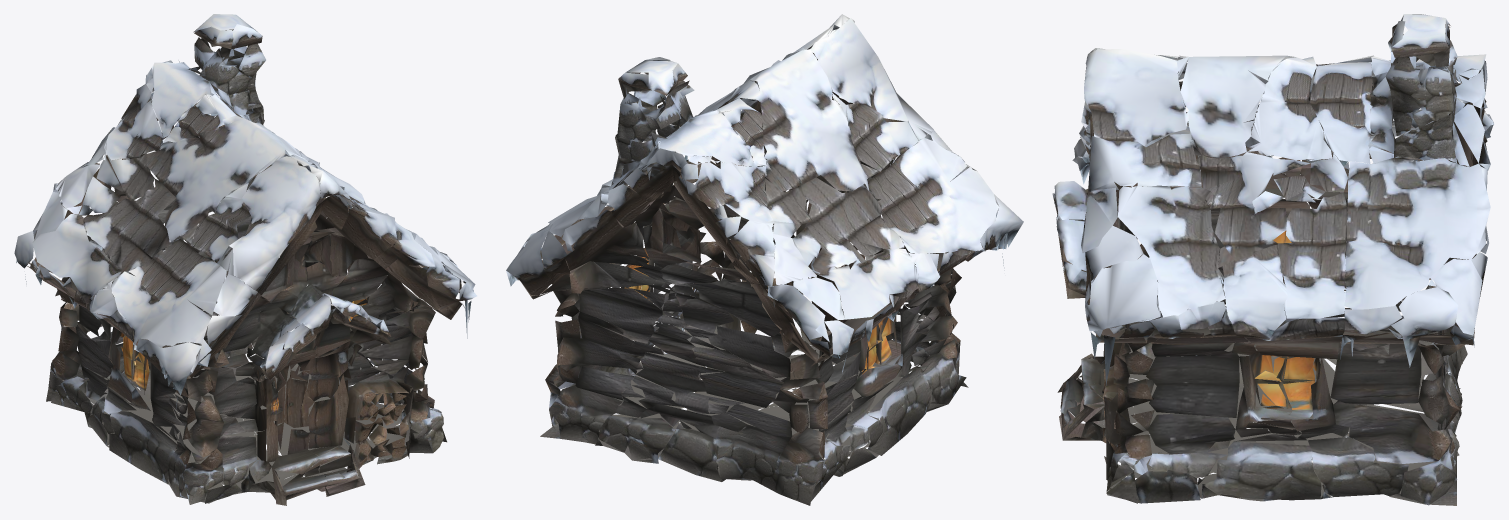
The model's file is MountainHut.fbx.
3 renders of one model, left to right at view 1: azimuth 30°, elevation 25°; view 2: azimuth 150°, elevation 25°; view 3: azimuth 270°, elevation 25°, orthographic. The views are drawn at different scales.
Parts seen in each view (by area): view 1: MountainHut_Body; view 2: MountainHut_Body; view 3: MountainHut_Body.
Boxes of the visible parts, x1=… form: MountainHut_Body: x1=14, y1=14, x2=476, y2=505; MountainHut_Body: x1=506, y1=14, x2=1023, y2=505; MountainHut_Body: x1=1052, y1=14, x2=1494, y2=505.
Size of the model in its own units: 0.9326 by 1 by 0.9252.
Materials: 1 (1 with a texture image).
